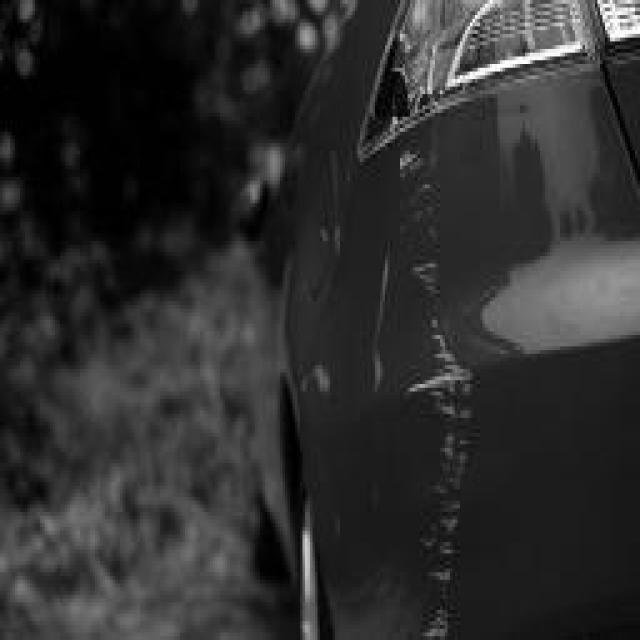Bumper: (365, 120, 545, 640)
